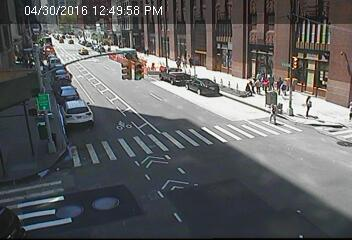neg: (35, 91, 55, 117), (201, 80, 219, 104), (222, 61, 240, 85), (255, 35, 273, 58), (288, 52, 305, 75), (90, 193, 107, 215), (175, 107, 191, 129), (286, 166, 302, 188), (143, 147, 159, 168), (232, 102, 247, 122), (221, 32, 235, 52), (99, 107, 113, 126), (325, 79, 339, 98), (7, 51, 20, 68), (147, 56, 160, 73), (39, 159, 51, 176), (336, 48, 348, 63), (119, 36, 131, 51), (237, 176, 248, 191), (106, 77, 117, 91), (80, 47, 90, 61)
pos: (296, 91, 317, 120), (266, 100, 284, 125), (242, 76, 258, 96), (278, 76, 293, 96), (256, 71, 271, 90), (265, 70, 279, 88), (274, 73, 287, 91), (172, 51, 185, 68), (185, 54, 196, 69), (180, 54, 190, 68)
